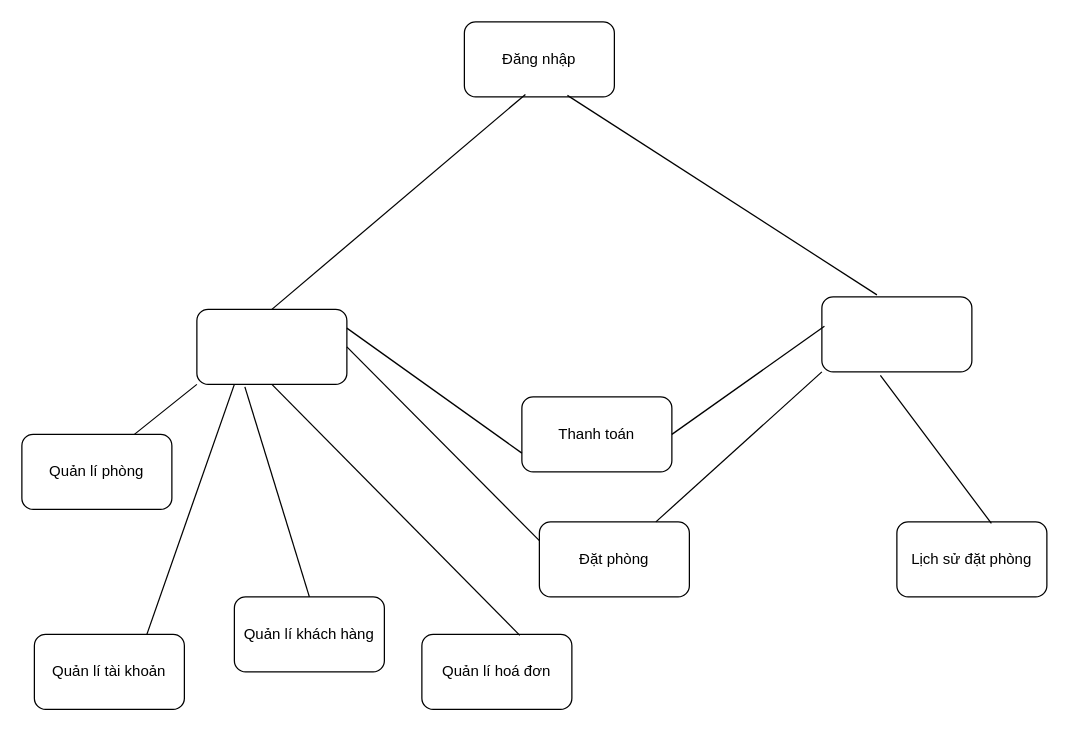
Image size: 1069x731. Some labels were removed from this diagram. Each missing label, with the box of its shape:
Giao diện admin (nếu là admin): (196, 308, 347, 384)
Giao diện đặt phòng (nếu là user): (821, 296, 972, 372)
